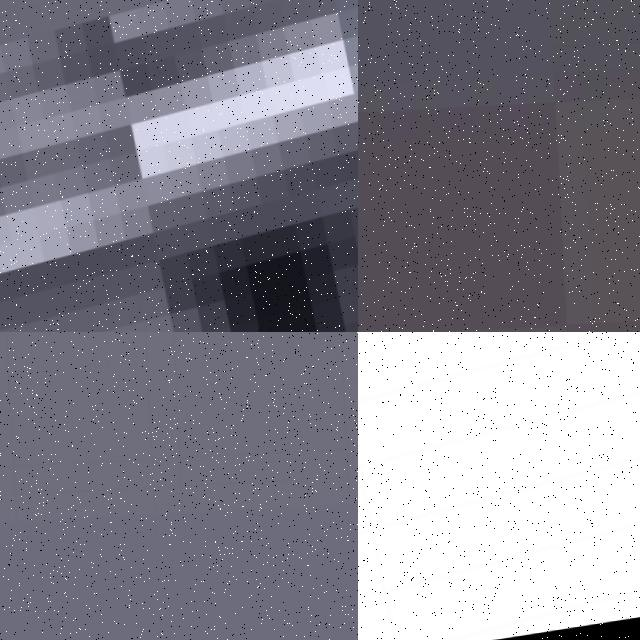drone: (0, 0, 358, 332), (358, 332, 640, 640)
